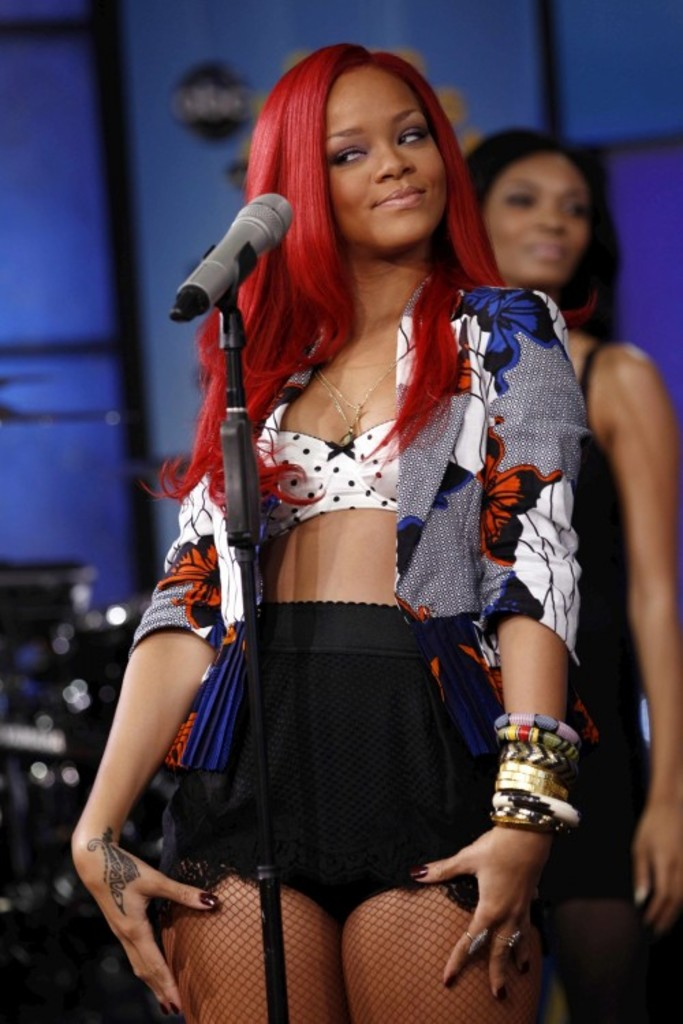face: (486, 148, 593, 290)
